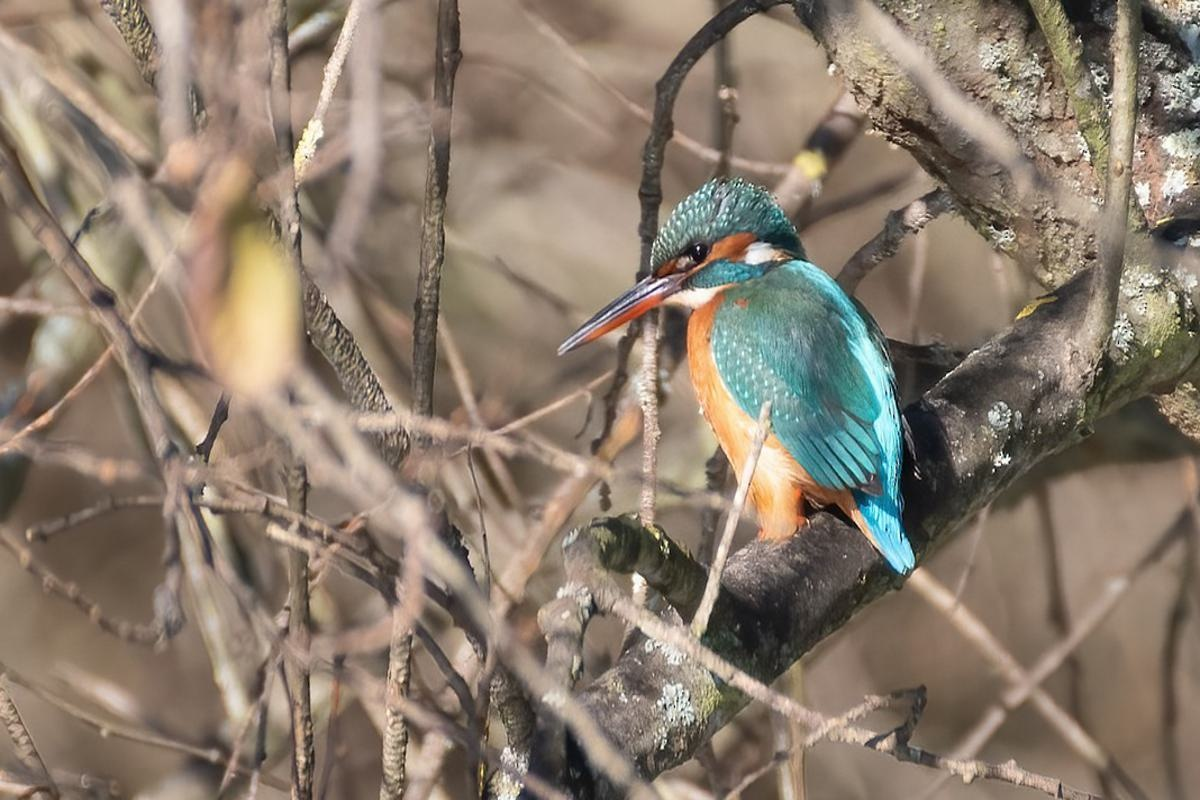kingfisher: (524, 174, 971, 587)
